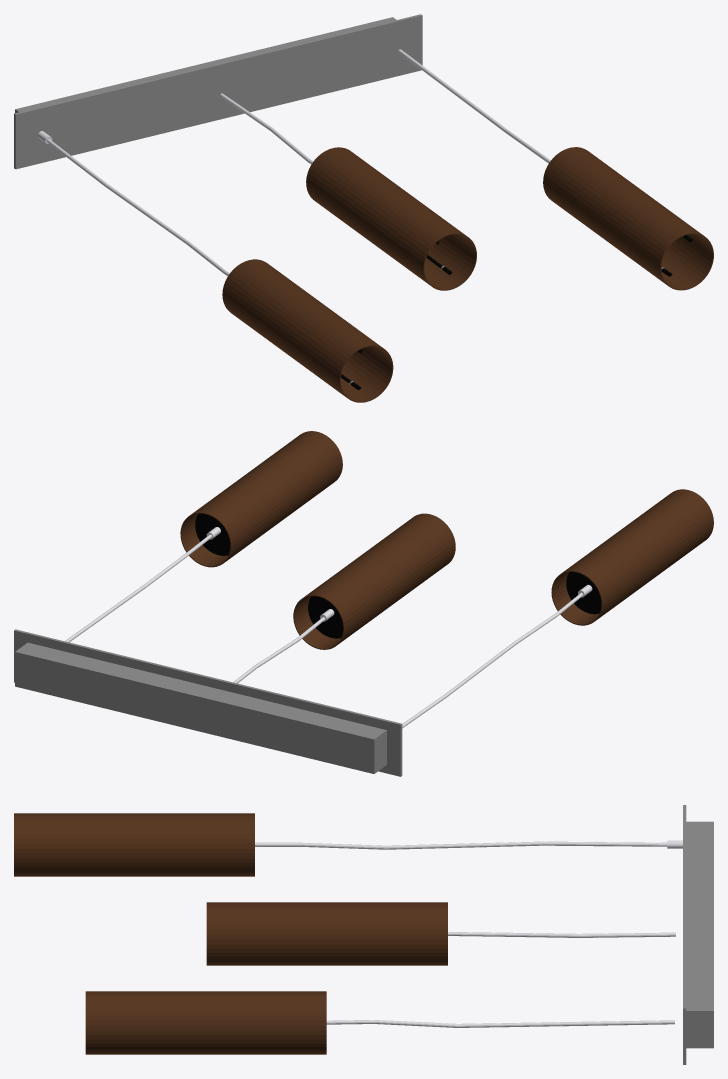
File: Lampe.dae
3 views of the same model, one above another, from view 1: azimuth 30°, elevation 25°; view 2: azimuth 150°, elevation 25°; view 3: azimuth 270°, elevation 25° (orthographic). The views are drawn at different scales.
Visible parts, largest first — view 1: Box7927, Tube03, Tube01, Tube02, Box30, Line11, Line12043; view 2: Box30, Tube03, Tube01, Tube02, Box7927, Line11, Cylinder29, Cylinder07, Cylinder23, Line12043; view 3: Tube03, Tube02, Tube01, Box30, Line11, Line12043, Line12036, Box7927.
Boxes of the visible parts, x1,y1,x2,y2 form: Box7927: (14,14,422,169); Tube03: (543,147,713,290); Tube01: (222,259,393,402); Tube02: (306,147,476,290); Box30: (15,17,396,112); Line11: (46,139,229,276); Line12043: (398,49,550,163); Box30: (15,642,386,773); Tube03: (180,431,342,567); Tube01: (551,489,713,625); Tube02: (293,513,455,649); Box7927: (14,629,402,776); Line11: (402,592,583,728); Cylinder29: (308,596,343,638); Cylinder07: (566,572,601,614); Cylinder23: (195,513,230,555); Line12043: (65,534,212,642); Tube03: (85,991,326,1054); Tube02: (206,902,447,965); Tube01: (14,813,254,876); Box30: (686,821,713,1048); Line11: (255,841,667,849); Line12043: (326,1020,674,1027); Line12036: (448,932,675,937); Box7927: (683,805,686,1064).
Size of the model in its own units: 6.74 by 9.74 by 0.8837.
